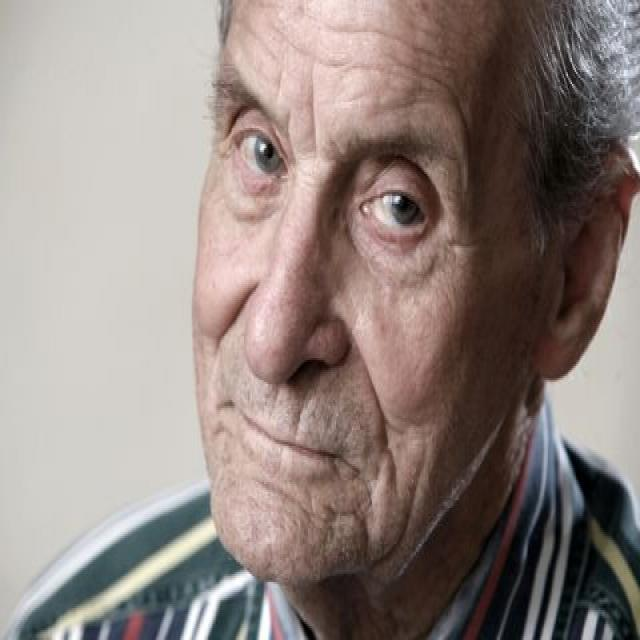earlobe: (532, 138, 638, 382)
